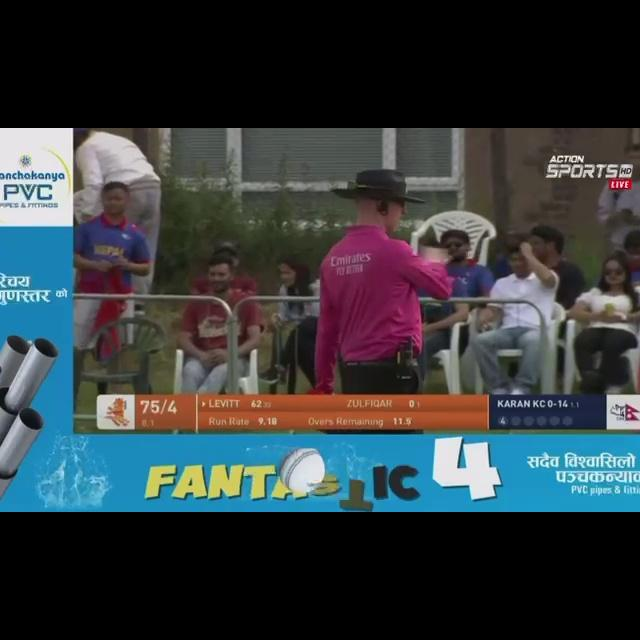umpire: (269, 164, 497, 395)
